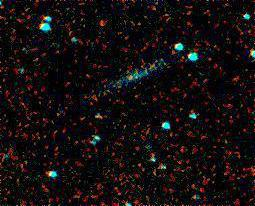star: (116, 66, 146, 96)
